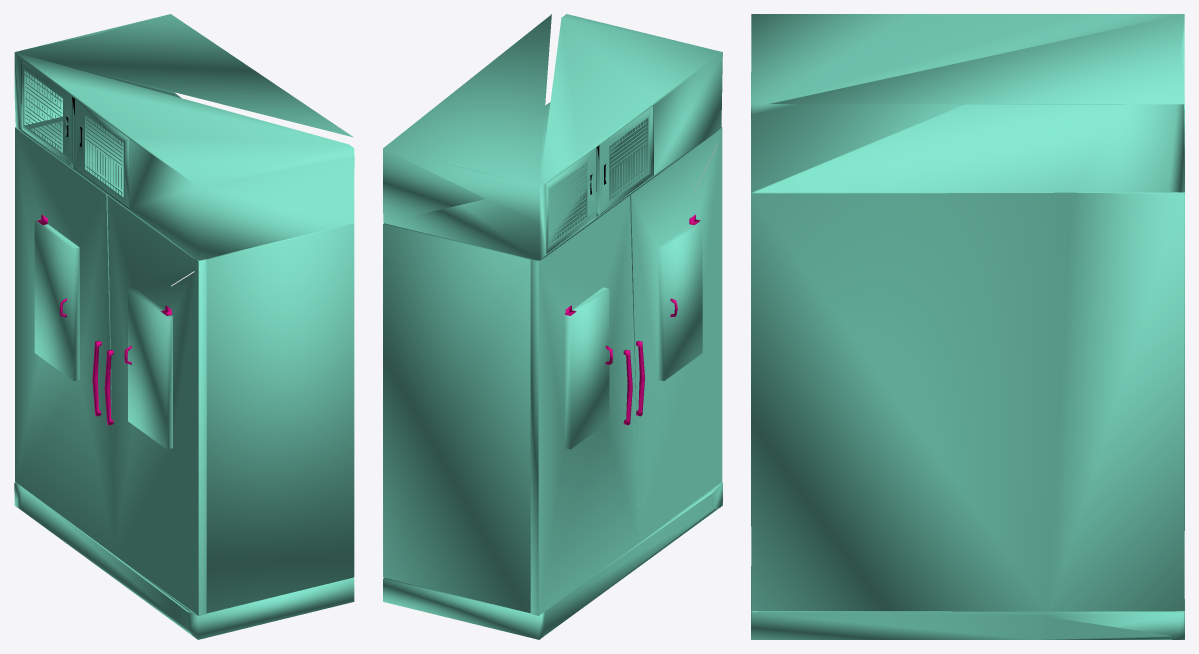
The model's file is 大烘箱 (2).fbx.
3 views of the same model, side by side, from view 1: azimuth 30°, elevation 25°; view 2: azimuth 150°, elevation 25°; view 3: azimuth 270°, elevation 25° (orthographic). The views are drawn at different scales.
Visible parts, largest first — view 1: 門口機器.003; view 2: 門口機器.003; view 3: 門口機器.003.
Boxes of the visible parts, x1,y1,x2,y2 form: 門口機器.003: (14,14,354,639); 門口機器.003: (383,14,722,639); 門口機器.003: (751,14,1184,639).
Size of the model in its own units: 184 by 451 by 328.
